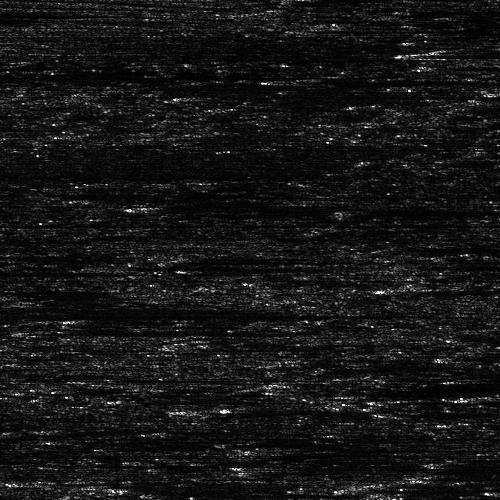object: (332, 470, 499, 483), (321, 282, 466, 295), (211, 443, 326, 456), (472, 197, 500, 230), (129, 200, 192, 211), (384, 48, 457, 57), (59, 262, 132, 271), (347, 494, 440, 500), (265, 77, 338, 82), (5, 328, 78, 333), (0, 302, 18, 321), (372, 410, 425, 415), (416, 354, 469, 359), (0, 251, 29, 260), (432, 376, 485, 379), (406, 64, 447, 67)
shadow: (0, 302, 327, 321), (160, 200, 378, 211), (394, 282, 500, 295), (96, 262, 242, 271), (0, 251, 134, 260), (416, 470, 500, 483), (0, 73, 217, 78), (268, 443, 346, 456), (302, 77, 451, 82), (421, 48, 500, 57), (394, 494, 500, 500), (0, 8, 58, 17), (0, 496, 130, 500), (399, 410, 478, 415), (0, 269, 55, 276), (42, 328, 113, 333), (442, 354, 500, 359), (427, 64, 500, 67), (458, 376, 500, 379)
